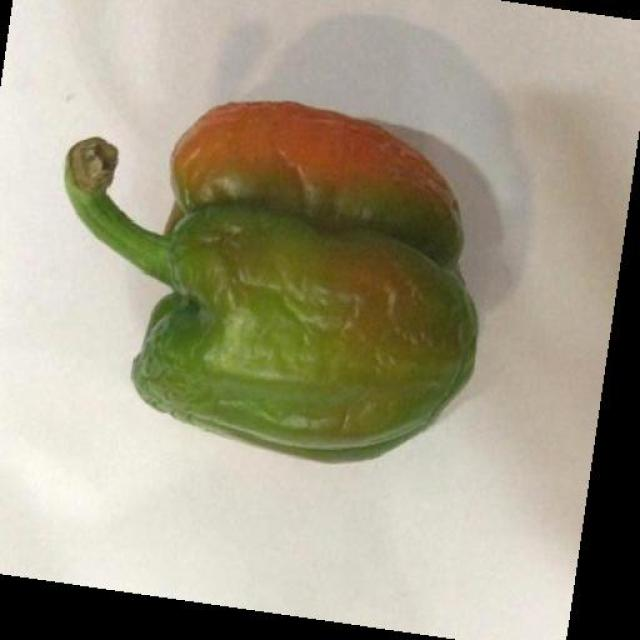Stale_Capsicum: (74, 101, 511, 451)
